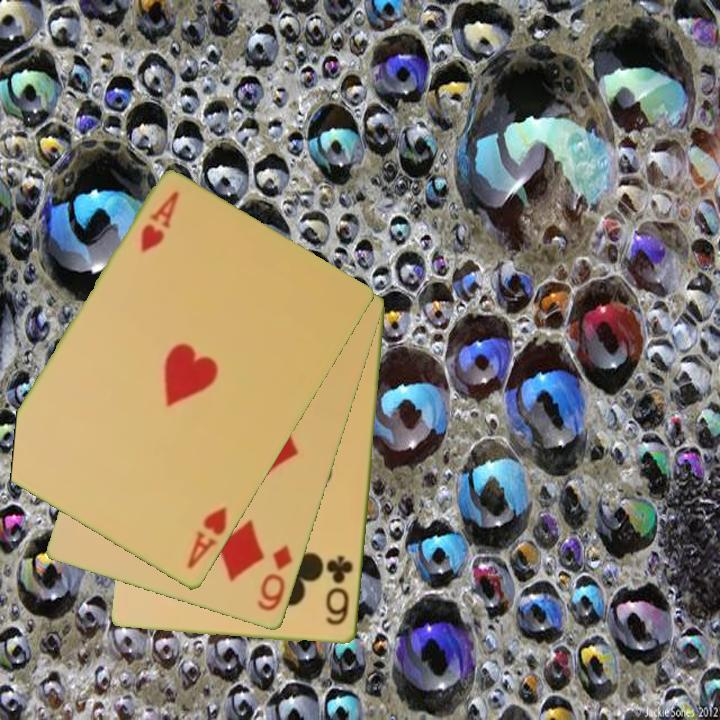6c: (322, 552, 356, 629)
6d: (254, 542, 296, 615)
Ah: (183, 504, 231, 573), (137, 188, 183, 256)
